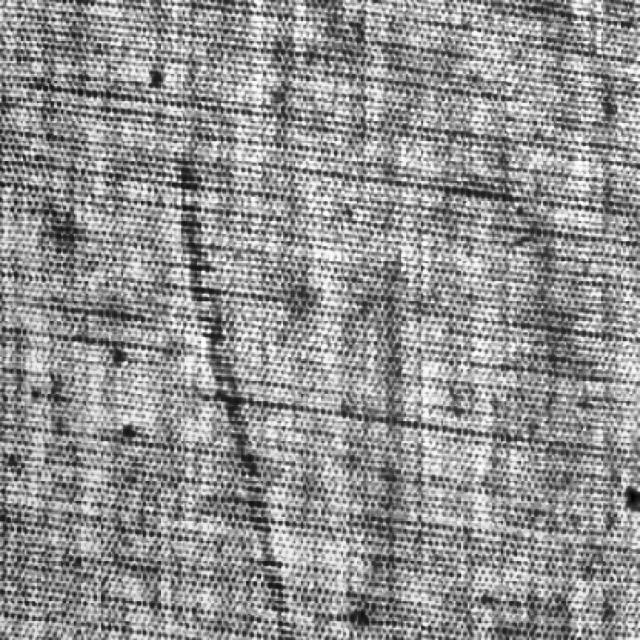oil_spot: (161, 140, 314, 640)
